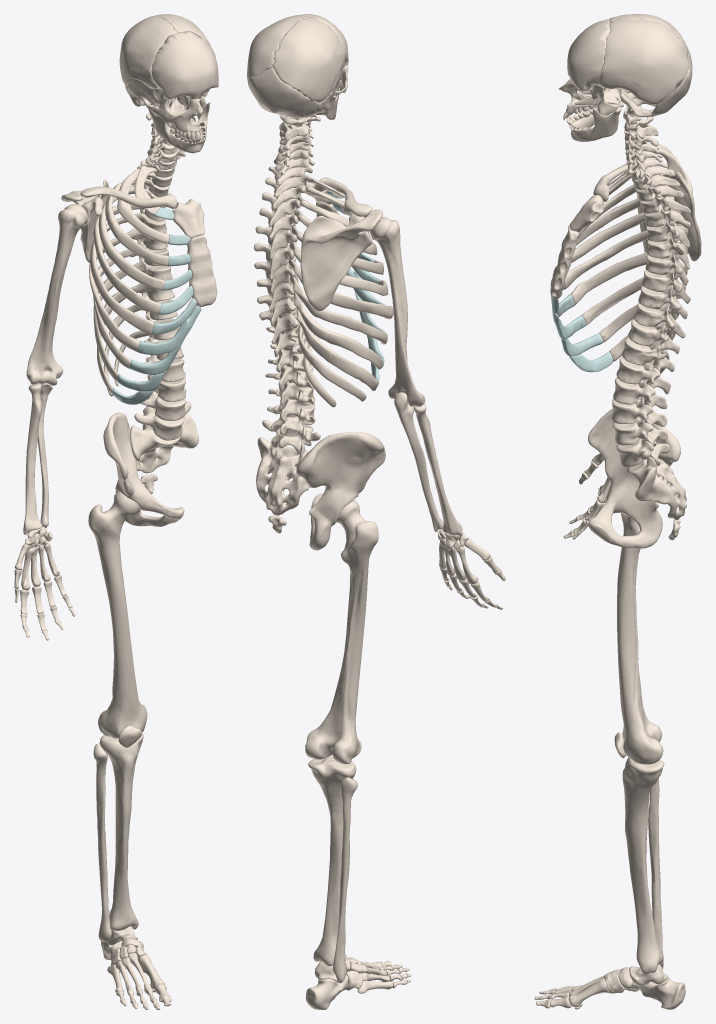
The model's file is skeleton.glb.
3 views of the same model, side by side, from view 1: azimuth 30°, elevation 25°; view 2: azimuth 150°, elevation 25°; view 3: azimuth 270°, elevation 25° (orthographic). The views are drawn at different scales.
Visible parts, largest first — view 1: Femur.r, Tibia.r, Frontal bone, Humerus.r, Hip bone.r, Parietal bone right, Sacrum, Fibula.r, Radius.r, Body of sternum, Rib (6th).r, Rib (4th).r (+24 smaller); view 2: Femur.r, Hip bone.r, Scapula.r., Parietal bone right, Tibia.r, Humerus.r, Sacrum, Occipital bone, Fibula.r, Parietal bone left, Ulna.r, Radius.r (+16 smaller); view 3: Parietal bone left, Femur.r, Hip bone.r, Tibia.r, Sacrum, Frontal bone, Fibula.r, Scapula.r., Mandible bone, Occipital bone, Rib (7th).r, Lumbar vertebrae (L1) (+32 smaller).
Boxes of the visible parts, box(x1,y1,x2,y2) form: Femur.r: box(88, 491, 147, 738); Tibia.r: box(99, 733, 143, 930); Frontal bone: box(151, 31, 218, 99); Humerus.r: box(26, 204, 87, 385); Hip bone.r: box(103, 412, 184, 526); Parietal bone right: box(119, 15, 177, 88); Sacrum: box(130, 413, 198, 473); Fibula.r: box(93, 743, 111, 941); Radius.r: box(23, 383, 42, 534); Body of sternum: box(187, 235, 217, 306); Rib (6th).r: box(90, 213, 154, 334); Rib (4th).r: box(98, 186, 165, 290); Femur.r: box(305, 500, 378, 764); Hip bone.r: box(296, 432, 385, 550); Scapula.r.: box(300, 209, 382, 311); Parietal bone right: box(272, 17, 345, 102); Tibia.r: box(308, 756, 356, 966); Humerus.r: box(370, 217, 425, 406); Sacrum: box(256, 437, 309, 515); Occipital bone: box(248, 67, 317, 117); Fibula.r: box(333, 777, 357, 983); Parietal bone left: box(247, 15, 308, 81); Ulna.r: box(394, 392, 443, 531); Radius.r: box(413, 404, 462, 535); Parietal bone left: box(598, 18, 689, 104); Femur.r: box(617, 513, 663, 764); Hip bone.r: box(588, 407, 680, 548); Tibia.r: box(622, 757, 664, 974); Sacrum: box(627, 441, 686, 520); Frontal bone: box(567, 18, 610, 90); Fibula.r: box(648, 778, 663, 969); Scapula.r.: box(649, 143, 701, 261); Mandible bone: box(569, 105, 621, 141); Occipital bone: box(619, 48, 692, 117); Rib (7th).r: box(570, 242, 687, 305); Lumbar vertebrae (L1): box(616, 356, 670, 394).
Size of the model in its own units: 0.4097 by 1.7 by 0.2542.
